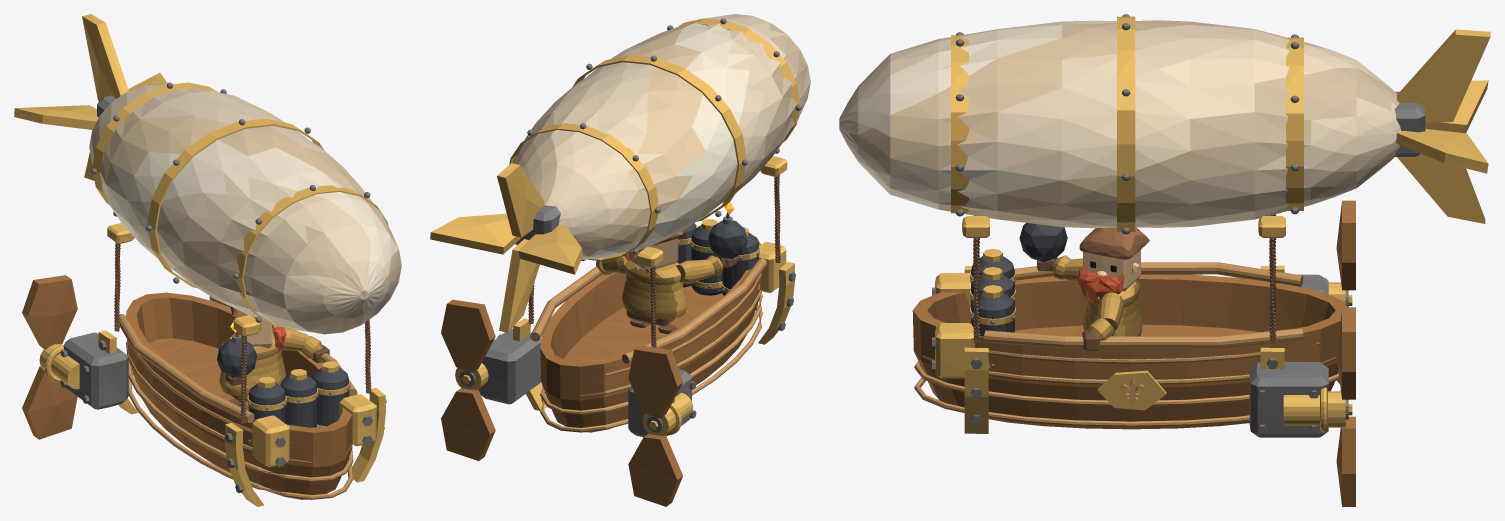
The model's file is mechanicalgolem.glb.
3 renders of one model, left to right at view 1: azimuth 30°, elevation 25°; view 2: azimuth 150°, elevation 25°; view 3: azimuth 270°, elevation 25°, orthographic. The views are drawn at different scales.
Parts seen in each view (by area): view 1: Dwarship — continuously convex genuinely faceted cream envel, Dwarship — open curved wood gondola hull and inner bulwarks, Dwarship — source engine nacelle 1, Dwarship — broad source propeller blade 1 1, Dwarship — broad source propeller blade 1 -1, Dwarship — actual broad bronze envelope band 1, Dwarship — broad upper tail fin, Dwarship — open raised side rail 1, Dwarship — actual broad bronze envelope band 0, Dwarship — source forward cargo retaining plate 1, Dwarship — solid horizontal tail fin 1, Dwarship — actual broad bronze envelope band 2 (+17 smaller); view 2: Dwarship — continuously convex genuinely faceted cream envel, Dwarship — open curved wood gondola hull and inner bulwarks, Dwarship — source engine nacelle -1, Dwarship — broad source propeller blade 1 1, Dwarship — broad source propeller blade -1 1, Dwarship — broad source propeller blade 1 -1, Dwarship — broad source propeller blade -1 -1, Dwarship pilot — source faceted fitted ochre coat with full , Dwarship — solid horizontal tail fin -1, Dwarship — actual broad bronze envelope band 1, Dwarship — broad upper tail fin, Dwarship — solid horizontal tail fin 1 (+23 smaller); view 3: Dwarship — continuously convex genuinely faceted cream envel, Dwarship — open curved wood gondola hull and inner bulwarks, Dwarship — broad upper tail fin, Dwarship — source engine nacelle -1, Dwarship — actual broad bronze envelope band 1, Dwarship — open raised side rail -1, Dwarship — broad lower tail fin, Dwarship — actual broad bronze envelope band 2, Dwarship — actual broad bronze envelope band 0, Dwarship — solid horizontal tail fin -1, Dwarship — open raised side rail 1, Dwarship — continuous rounded plank course 0 (+19 smaller).
Boxes of the visible parts, x1,y1,x2,y2 form: Dwarship — continuously convex genuinely faceted cream envel: [89, 83, 401, 334]; Dwarship — open curved wood gondola hull and inner bulwarks: [126, 292, 352, 499]; Dwarship — source engine nacelle 1: [63, 332, 128, 409]; Dwarship — broad source propeller blade 1 1: [22, 275, 77, 349]; Dwarship — broad source propeller blade 1 -1: [22, 366, 77, 439]; Dwarship — actual broad bronze envelope band 1: [147, 118, 324, 288]; Dwarship — broad upper tail fin: [82, 14, 128, 100]; Dwarship — open raised side rail 1: [119, 314, 254, 422]; Dwarship — actual broad bronze envelope band 0: [235, 185, 388, 329]; Dwarship — source forward cargo retaining plate 1: [252, 415, 289, 467]; Dwarship — solid horizontal tail fin 1: [14, 105, 98, 129]; Dwarship — actual broad bronze envelope band 2: [92, 82, 216, 205]; Dwarship — continuously convex genuinely faceted cream envel: [513, 14, 810, 259]; Dwarship — open curved wood gondola hull and inner bulwarks: [540, 236, 761, 432]; Dwarship — source engine nacelle -1: [478, 328, 541, 404]; Dwarship — broad source propeller blade 1 1: [628, 345, 682, 418]; Dwarship — broad source propeller blade -1 1: [441, 299, 495, 372]; Dwarship — broad source propeller blade 1 -1: [628, 433, 682, 506]; Dwarship — broad source propeller blade -1 -1: [441, 388, 495, 460]; Dwarship pilot — source faceted fitted ochre coat with full : [622, 261, 687, 319]; Dwarship — solid horizontal tail fin -1: [430, 213, 520, 254]; Dwarship — actual broad bronze envelope band 1: [572, 55, 746, 221]; Dwarship — broad upper tail fin: [497, 163, 544, 237]; Dwarship — solid horizontal tail fin 1: [518, 224, 583, 274]; Dwarship — continuously convex genuinely faceted cream envel: [839, 20, 1400, 228]; Dwarship — open curved wood gondola hull and inner bulwarks: [912, 274, 1349, 429]; Dwarship — broad upper tail fin: [1397, 29, 1490, 122]; Dwarship — source engine nacelle -1: [1249, 362, 1328, 437]; Dwarship — actual broad bronze envelope band 1: [1117, 16, 1135, 231]; Dwarship — open raised side rail -1: [984, 328, 1303, 348]; Dwarship — broad lower tail fin: [1397, 153, 1485, 223]; Dwarship — actual broad bronze envelope band 2: [1286, 37, 1303, 210]; Dwarship — actual broad bronze envelope band 0: [951, 35, 968, 213]; Dwarship — solid horizontal tail fin -1: [1396, 129, 1488, 173]; Dwarship — open raised side rail 1: [1014, 262, 1303, 287]; Dwarship — continuous rounded plank course 0: [914, 378, 1340, 426].
Bounding box in the file's own units: 1.22 × 1.74 × 2.43.
